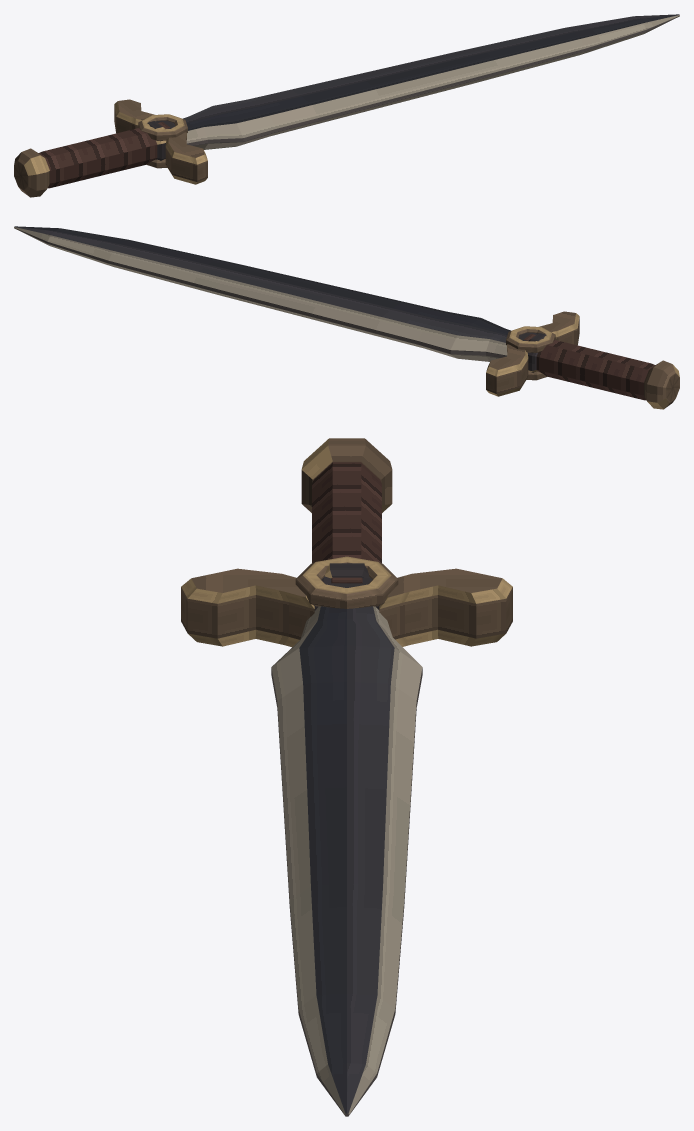
Rendered from bench_qingxiao_liuyun_sword_5.obj.
3 renders of one model, top to bottom at view 1: azimuth 30°, elevation 25°; view 2: azimuth 150°, elevation 25°; view 3: azimuth 270°, elevation 25°, orthographic. The views are drawn at different scales.
Parts seen in each view (by area): view 1: geometry; view 2: geometry; view 3: geometry.
Boxes of the visible parts, x1=… form: geometry: x1=14, y1=14, x2=679, y2=197; geometry: x1=14, y1=226, x2=679, y2=409; geometry: x1=181, y1=438, x2=512, y2=1116.
Size of the model in its own units: 0.75 by 0.0449 by 0.1637.
